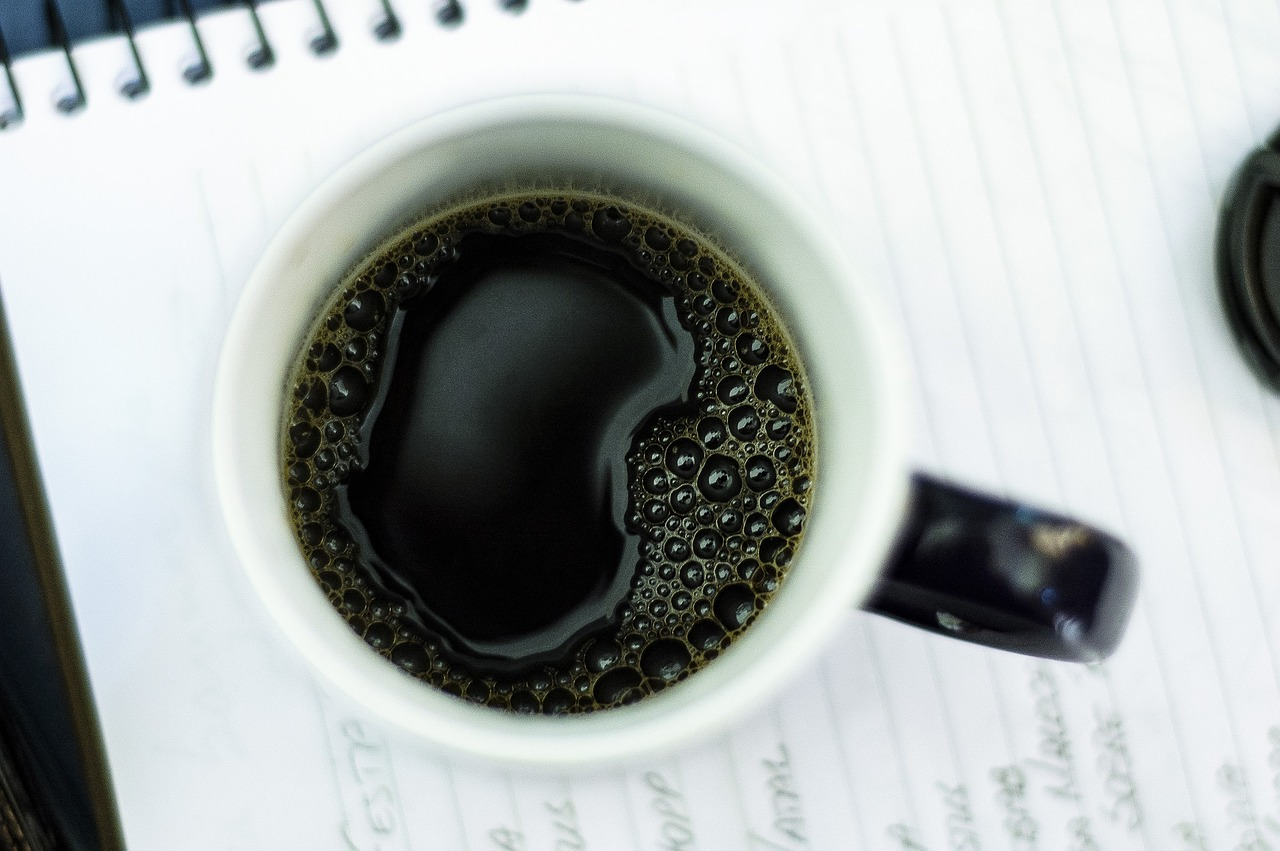mug: (191, 82, 1150, 793)
